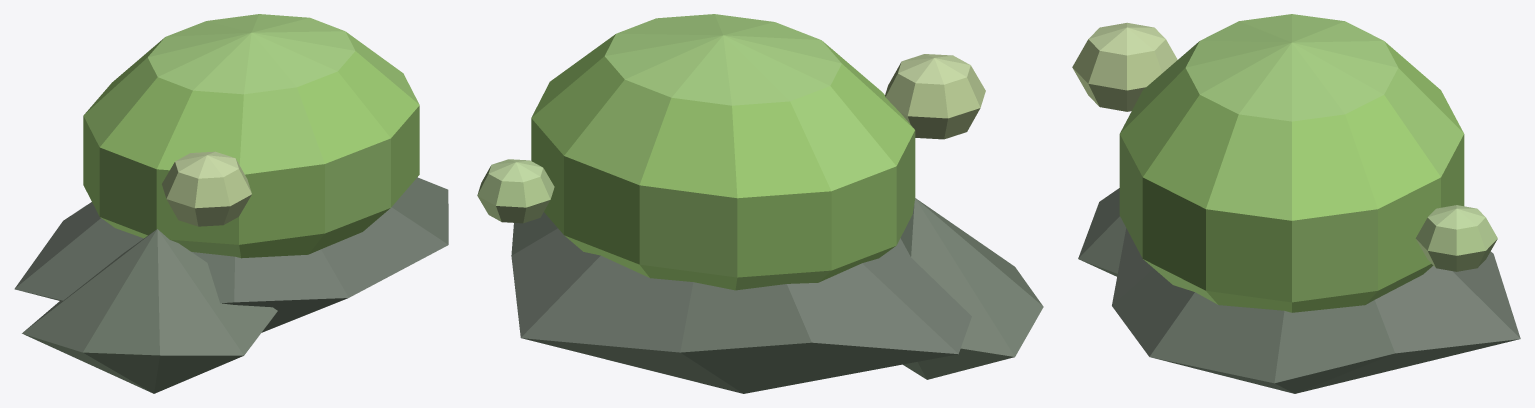
The model's file is Goo_Nodule.glb.
3 views of the same model, side by side, from view 1: azimuth 30°, elevation 25°; view 2: azimuth 150°, elevation 25°; view 3: azimuth 270°, elevation 25° (orthographic). The views are drawn at different scales.
Parts seen in each view (by area): view 1: Goo_Nodule; view 2: Goo_Nodule; view 3: Goo_Nodule.
Part boxes in pixels (x1,y1,x2,y2): Goo_Nodule: [14, 14, 448, 393]; Goo_Nodule: [477, 14, 1043, 393]; Goo_Nodule: [1072, 14, 1520, 393].
Size of the model in its own units: 1.28 by 0.8734 by 0.9798.
